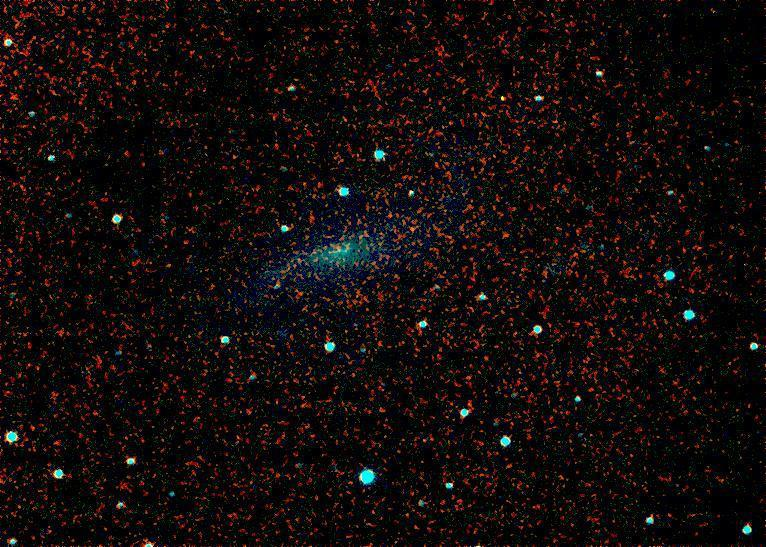star: (397, 210, 427, 240)
